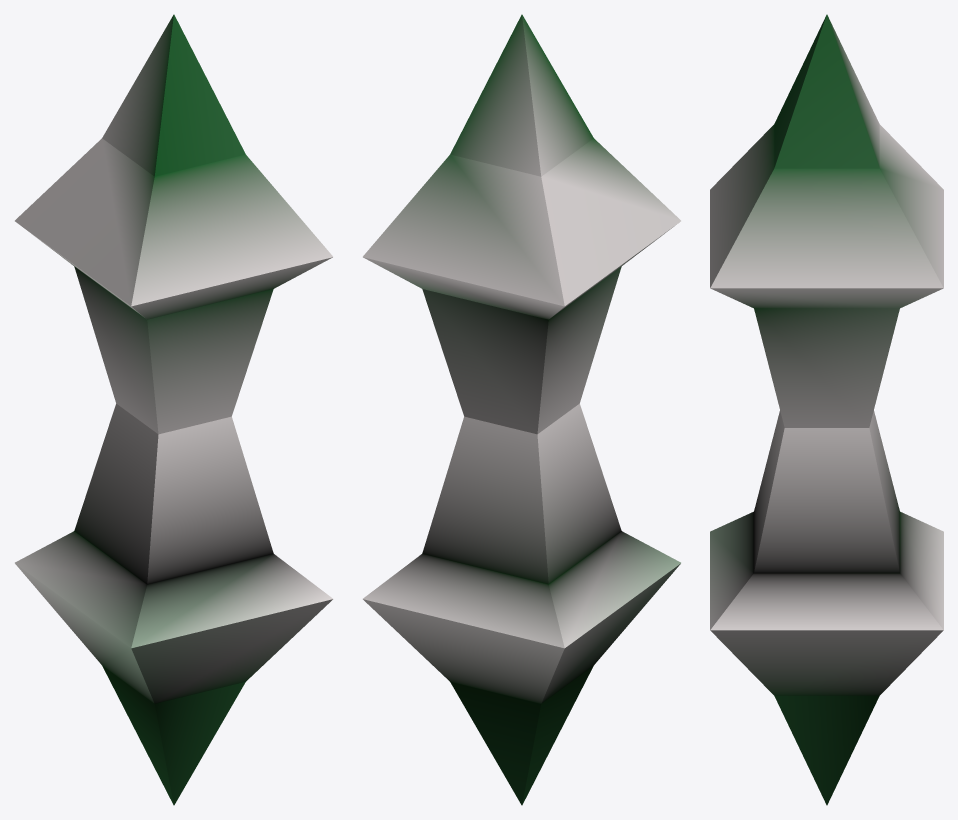
The model's file is ruin_04.fbx.
3 renders of one model, left to right at view 1: azimuth 30°, elevation 25°; view 2: azimuth 150°, elevation 25°; view 3: azimuth 270°, elevation 25°, orthographic.
Parts seen in each view (by area): view 1: ruin_04; view 2: ruin_04; view 3: ruin_04.
Part boxes in pixels (left/top/right/bottom): ruin_04: left=15, top=14, right=332, bottom=805; ruin_04: left=363, top=14, right=680, bottom=805; ruin_04: left=710, top=14, right=943, bottom=805.
Bounding box in the file's own units: 3200 × 11967 × 3200.
